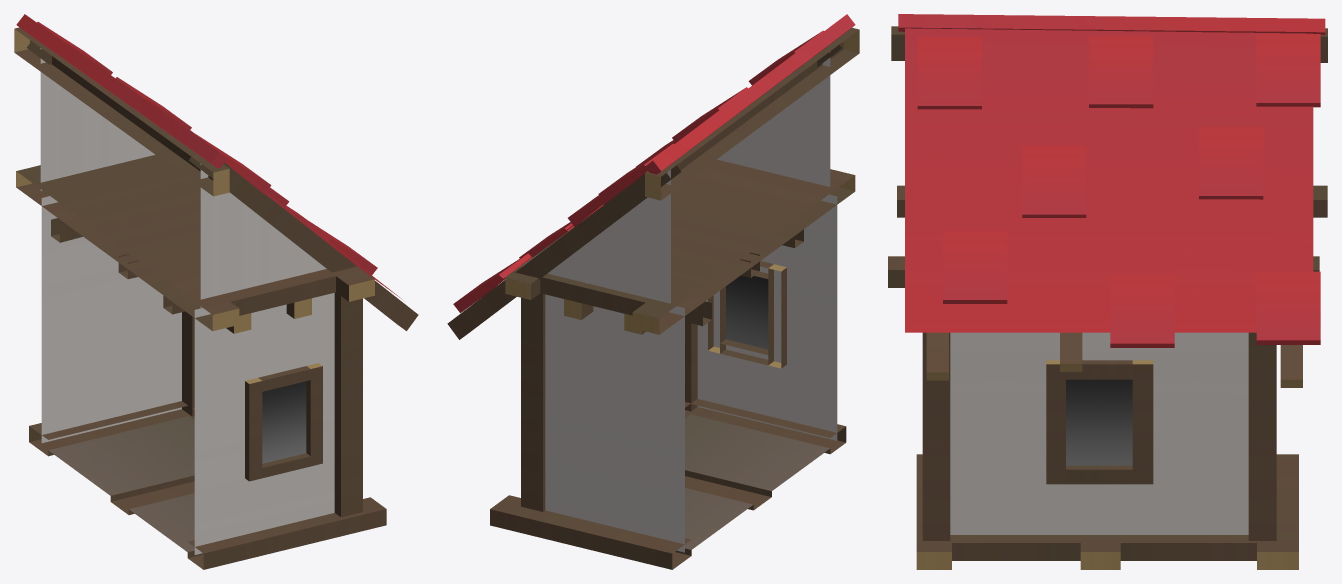
The model's file is House_Piece_1A.fbx.
The picture shows the model from 3 angles, left to right: view 1: azimuth 30°, elevation 25°; view 2: azimuth 150°, elevation 25°; view 3: azimuth 270°, elevation 25°; orthographic projection. The views are drawn at different scales.
Parts seen in each view (by area): view 1: polySurface9628; view 2: polySurface9628; view 3: polySurface9628.
Boxes of the visible parts, x1,y1,x2,y2 form: polySurface9628: (14,14,418,569); polySurface9628: (447,14,859,569); polySurface9628: (888,14,1327,569).
Size of the model in its own units: 219 by 387 by 334.
